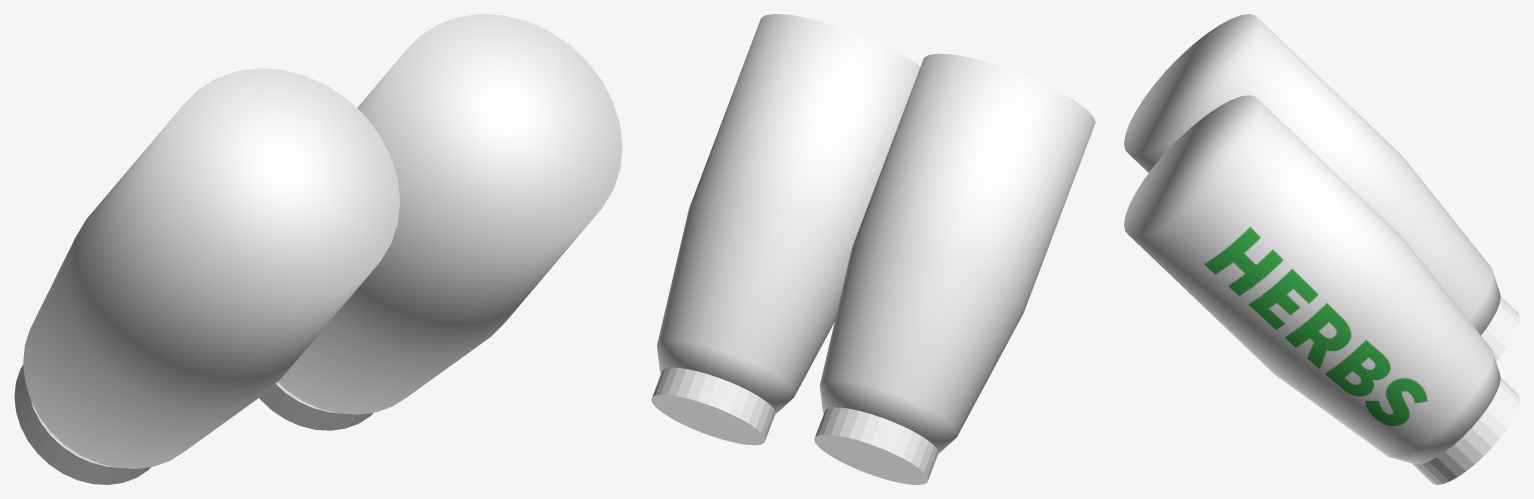
The model's file is bottle.fbx.
3 renders of one model, left to right at view 1: azimuth 30°, elevation 25°; view 2: azimuth 150°, elevation 25°; view 3: azimuth 270°, elevation 25°, orthographic. The views are drawn at different scales.
Parts seen in each view (by area): view 1: Cylinder.009, Cylinder.010; view 2: Cylinder.009, Cylinder.010; view 3: Cylinder.010, Cylinder.009.
Boxes of the visible parts, x1,y1,x2,y2 form: Cylinder.009: [14, 68, 399, 484]; Cylinder.010: [259, 14, 622, 430]; Cylinder.009: [814, 53, 1095, 484]; Cylinder.010: [651, 14, 920, 445]; Cylinder.010: [1124, 95, 1519, 484]; Cylinder.009: [1124, 14, 1519, 361].
Size of the model in its own units: 413 by 443 by 430.
Materials: 2 (2 with a texture image).
